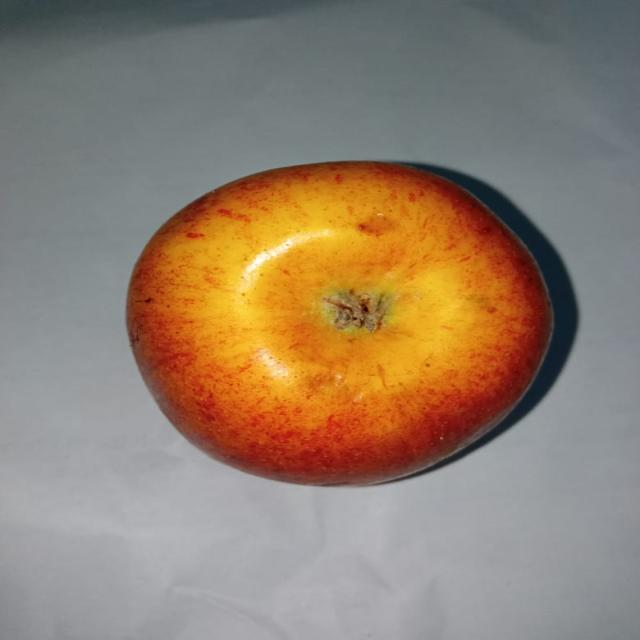fresh_apple: (125, 160, 558, 486)
